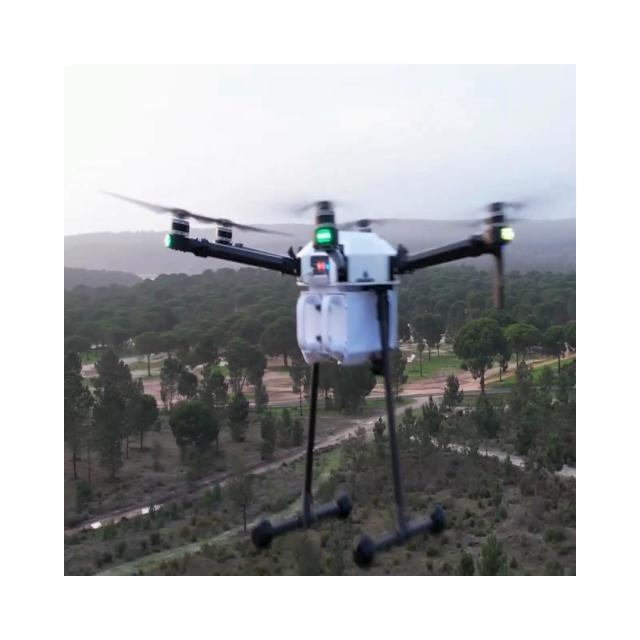drone: (97, 187, 527, 567)
